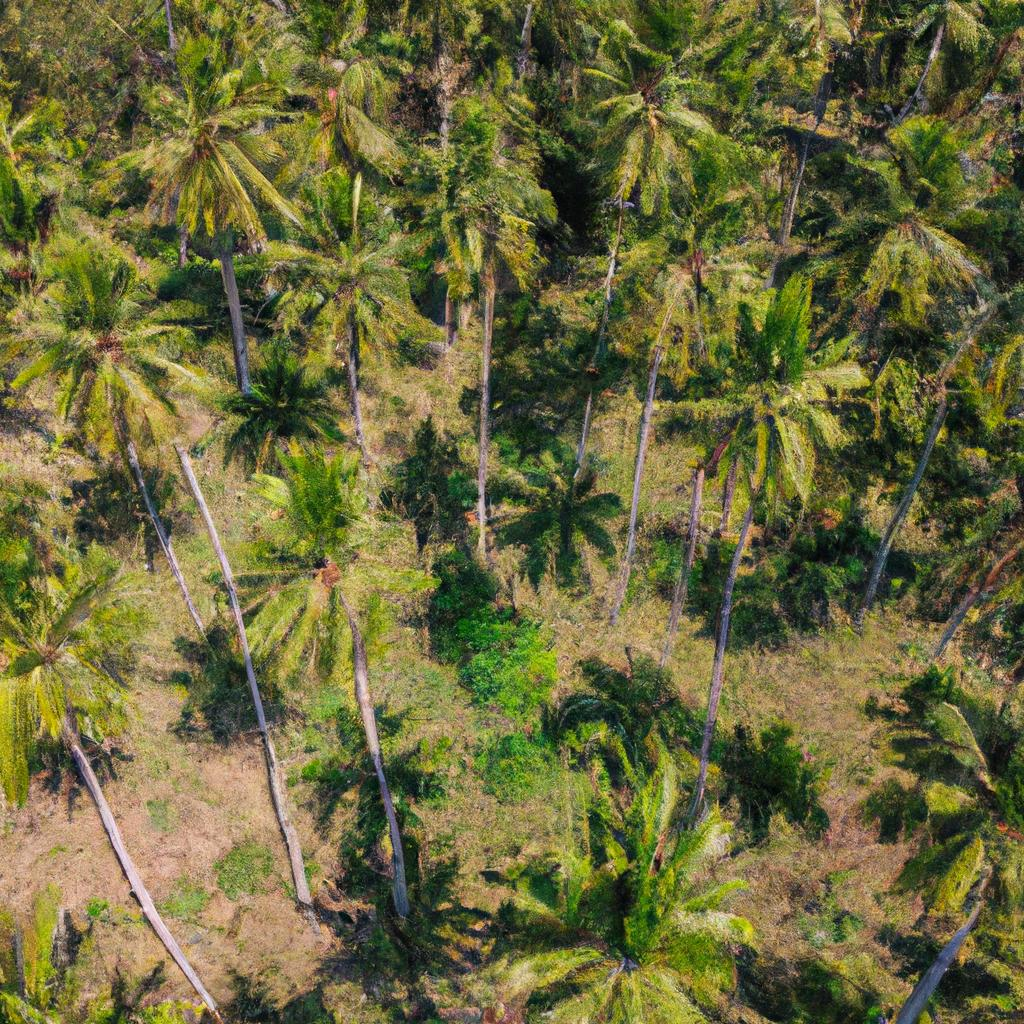coconut_tree: (498, 726, 753, 1023), (200, 439, 434, 707), (18, 237, 221, 477), (678, 275, 864, 518), (405, 81, 570, 297), (118, 74, 307, 240), (561, 18, 723, 210)
